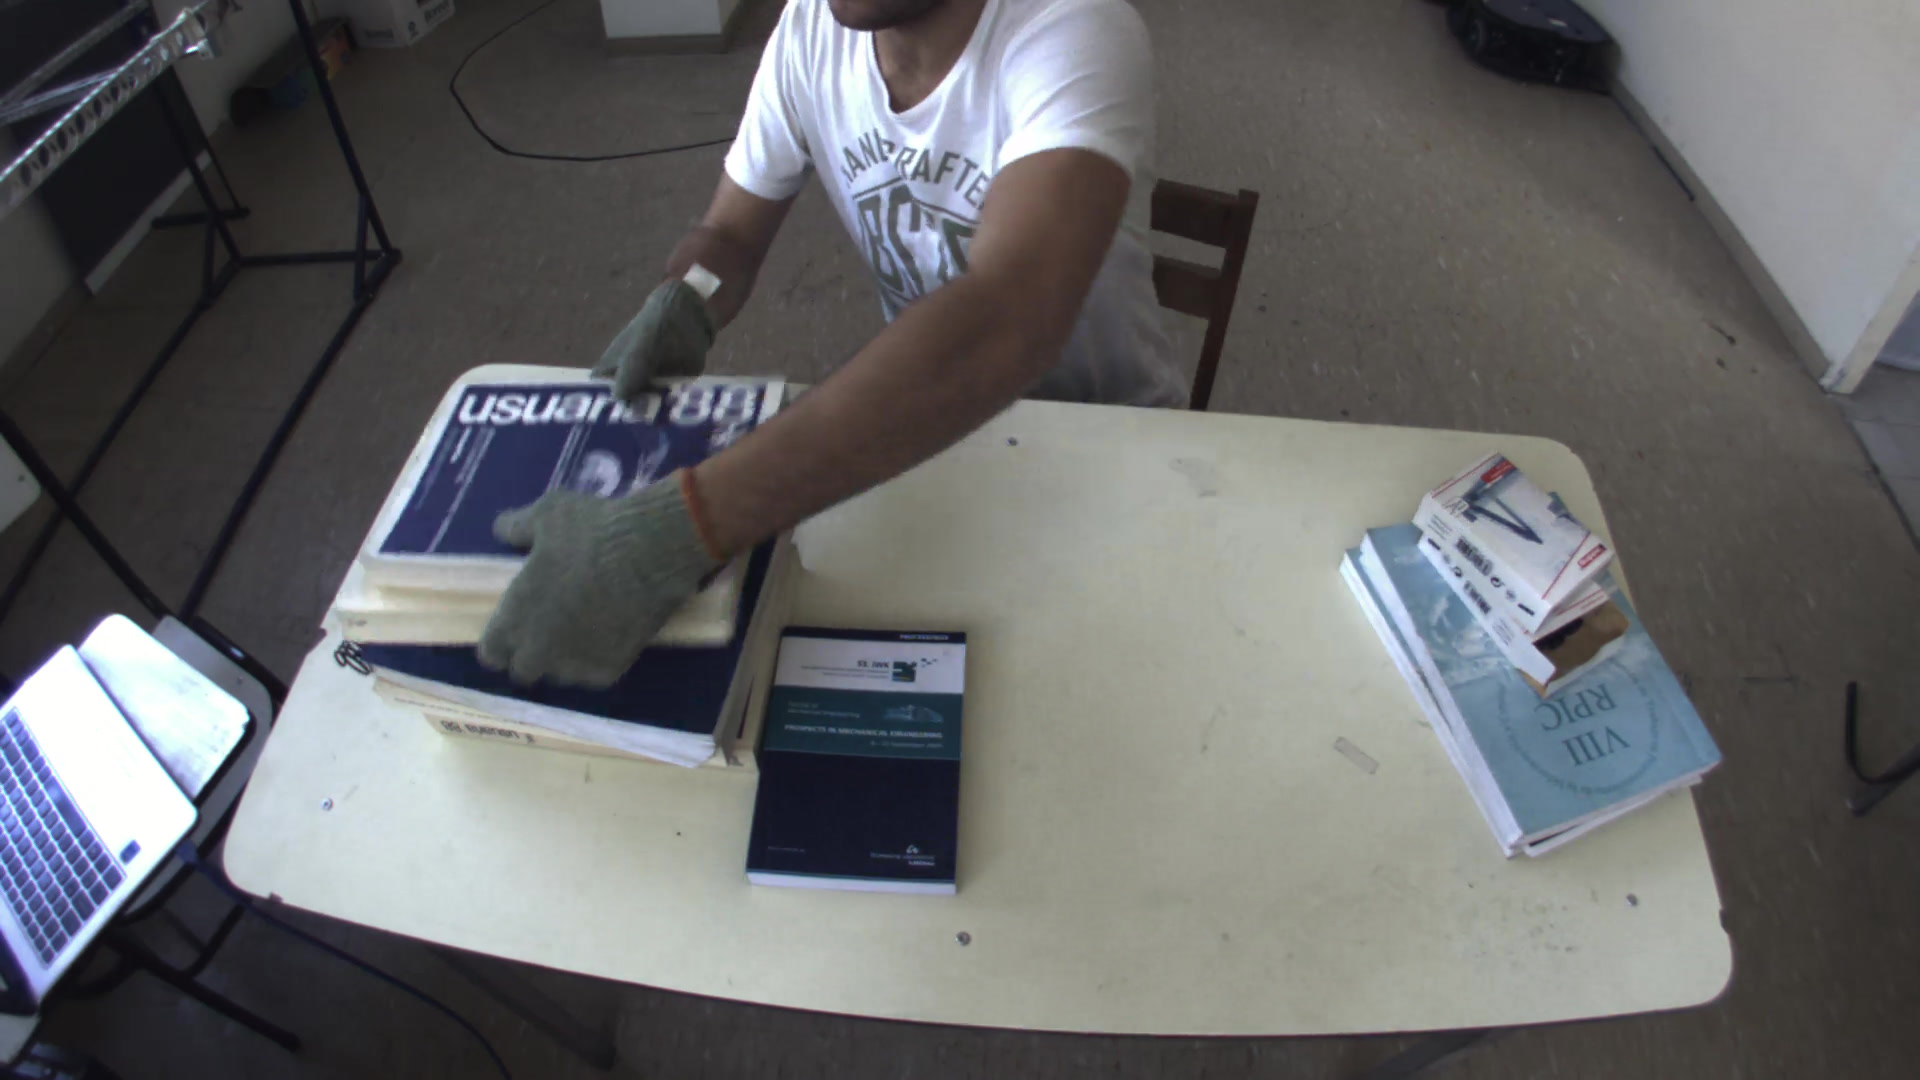hand: (462, 473, 709, 692), (584, 273, 709, 425)
